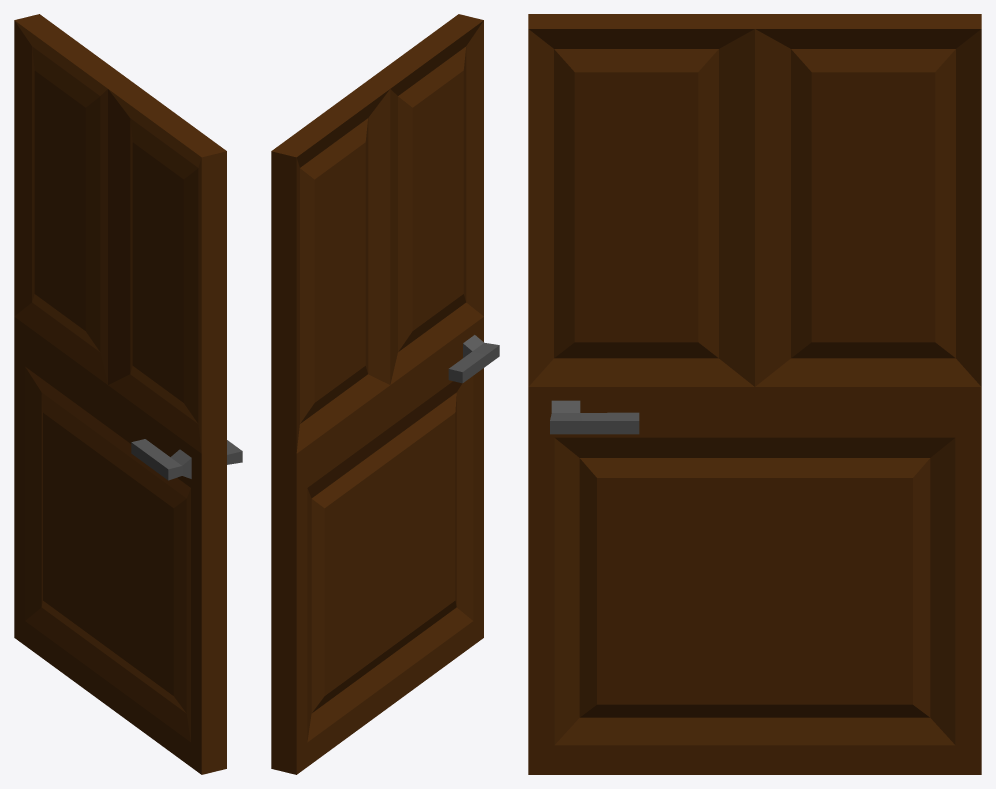
File: modeladoPuerta.fbx
The picture shows the model from 3 angles, left to right: view 1: azimuth 30°, elevation 25°; view 2: azimuth 150°, elevation 25°; view 3: azimuth 270°, elevation 25°; orthographic projection. The views are drawn at different scales.
Visible parts, largest first — view 1: Puerta; view 2: Puerta; view 3: Puerta.
Boxes of the visible parts, x1,y1,x2,y2 form: Puerta: (14, 14, 242, 774); Puerta: (271, 14, 499, 774); Puerta: (528, 14, 981, 774).
Bounding box in the file's own units: 150 × 1192 × 656.
